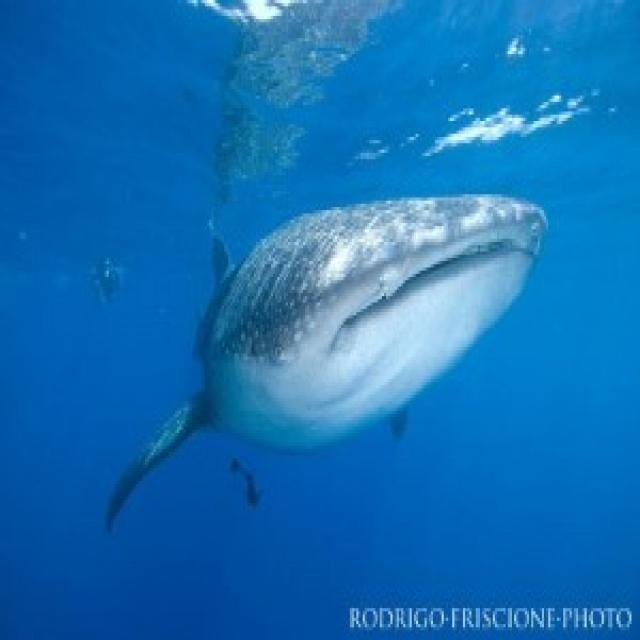Shark: (96, 187, 558, 503)
